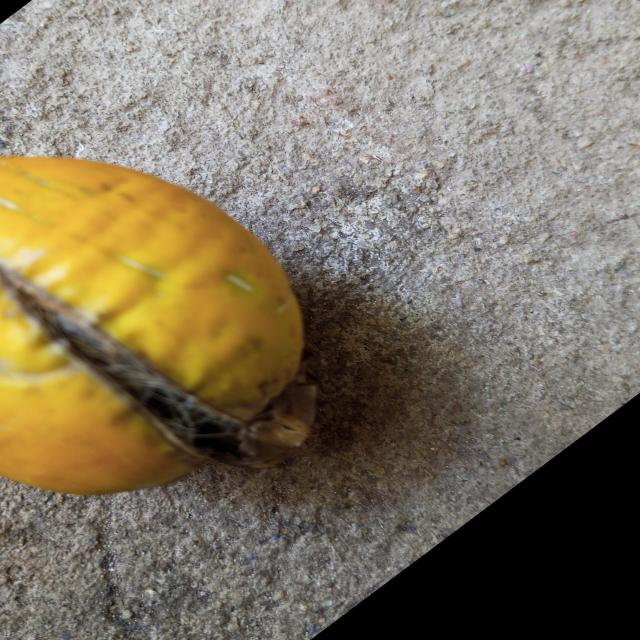damaged: (0, 157, 316, 498)
